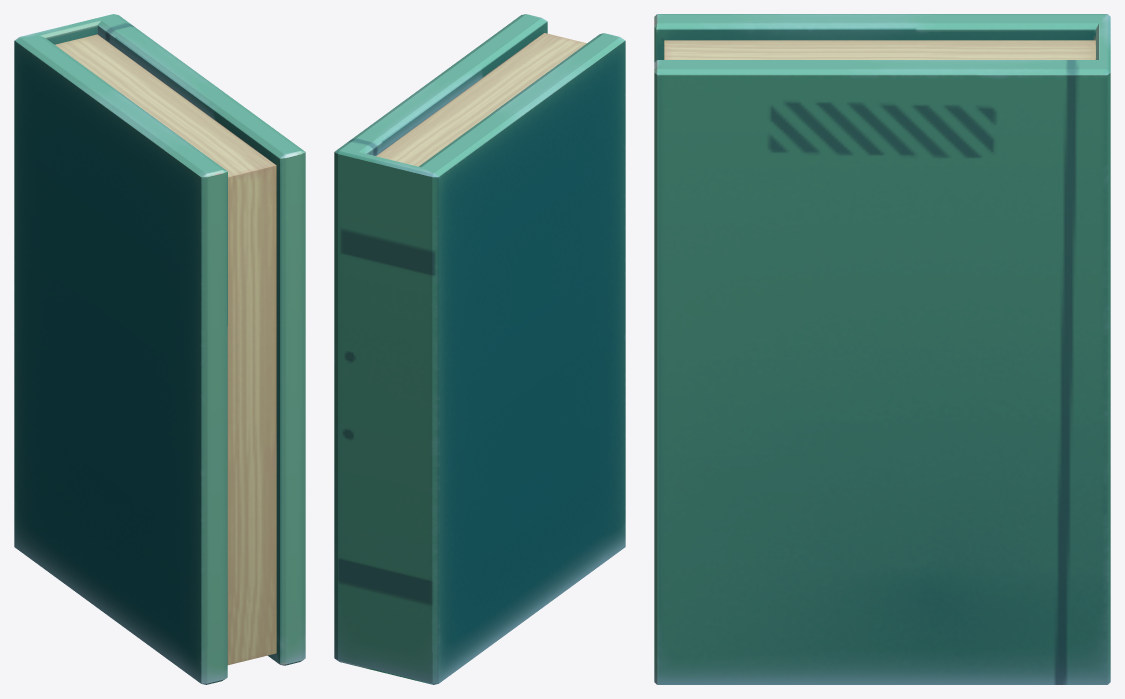
The model's file is Libro_1.fbx.
The picture shows the model from 3 angles, left to right: view 1: azimuth 30°, elevation 25°; view 2: azimuth 150°, elevation 25°; view 3: azimuth 270°, elevation 25°; orthographic projection. The views are drawn at different scales.
Visible parts, largest first — view 1: Libros 1; view 2: Libros 1; view 3: Libros 1.
Boxes of the visible parts, <box> form: Libros 1: <box>14,14,305,684</box>; Libros 1: <box>334,14,625,684</box>; Libros 1: <box>654,14,1110,684</box>.
Size of the model in its own units: 20.09 by 93.81 by 63.07.
